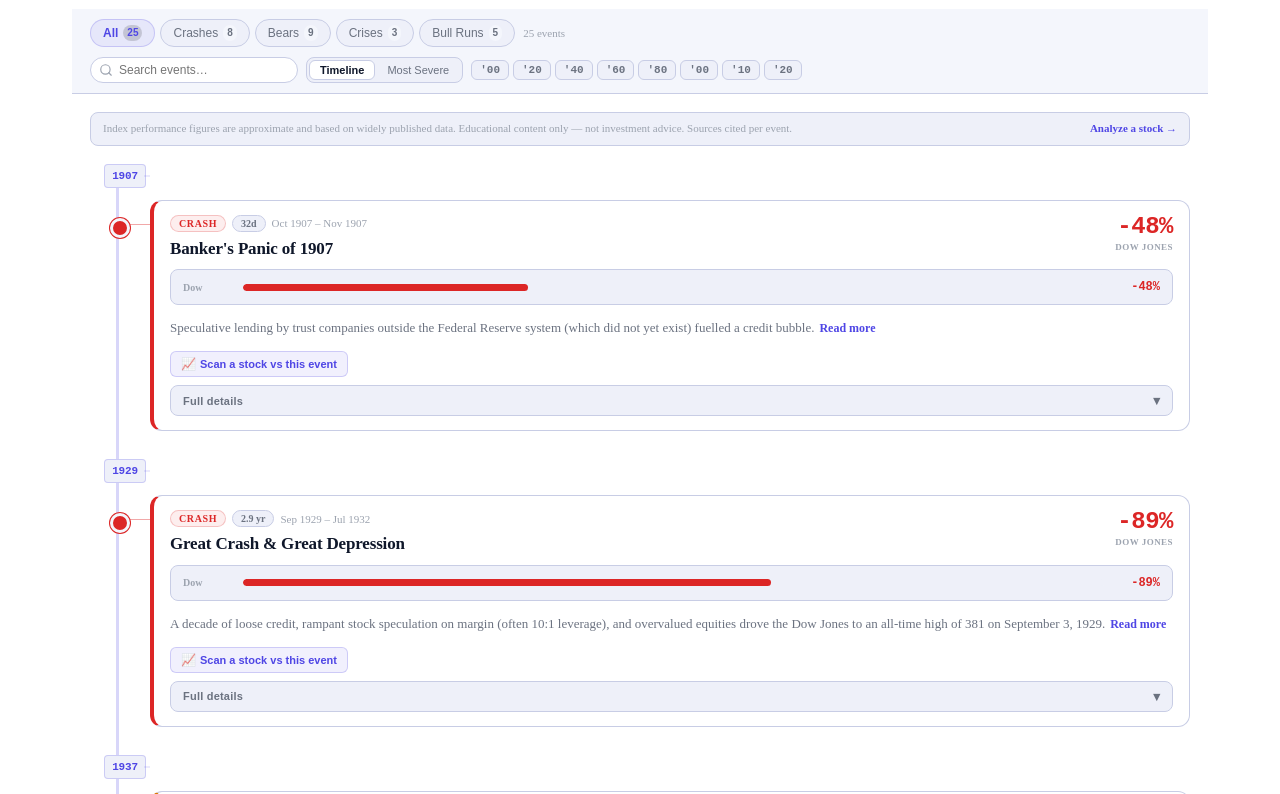
Test: I-36: Event cards expand to show full details › clicking Full details reveals Market Impact section
(page scrolled)
Step 1. Click the button "Full details ▾" below "Banker's Panic of 1907" → {"x": 213, "y": 401}, box [170, 385, 1173, 416]
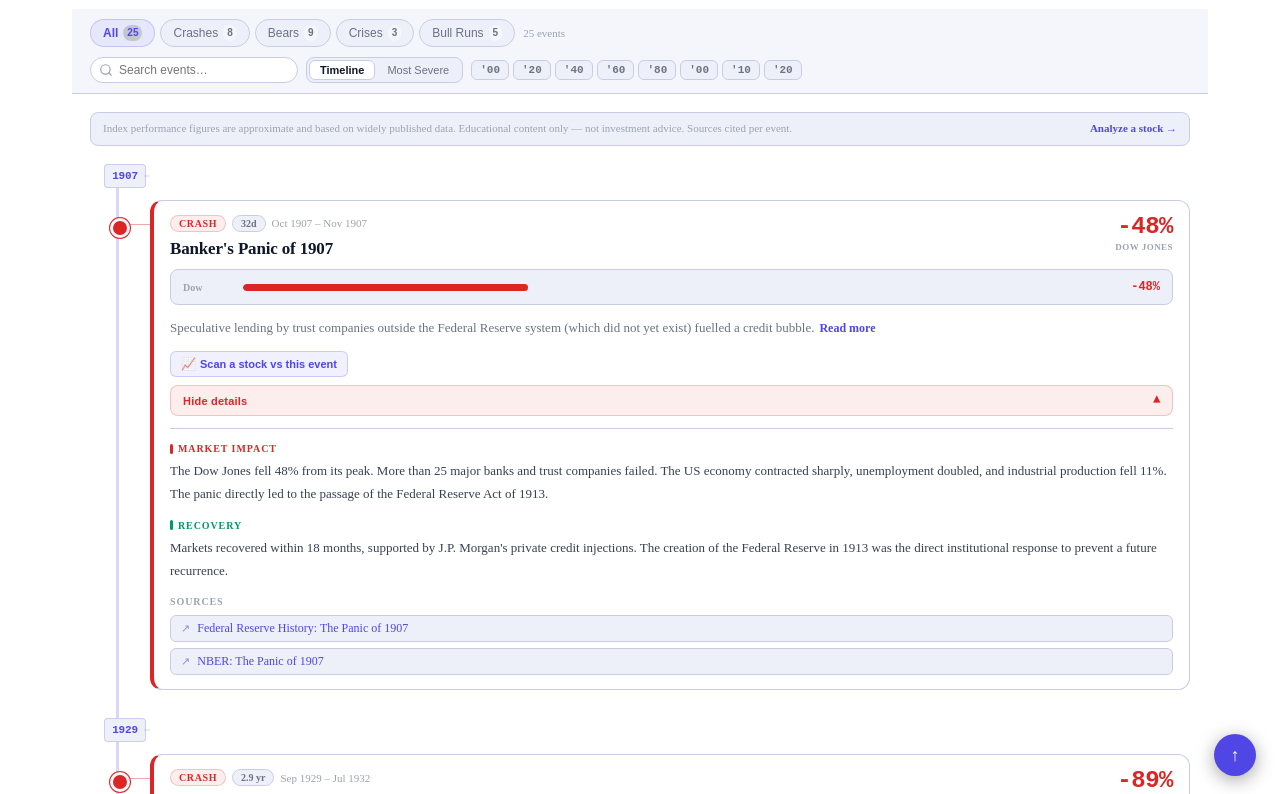
Now the text "Market Impact" is shown, box [170, 443, 277, 454]
